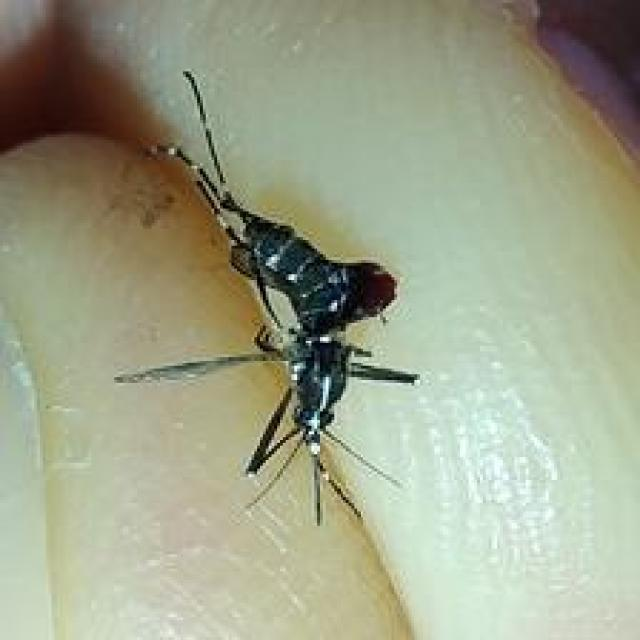Aedes albopictus: (113, 67, 421, 527)
